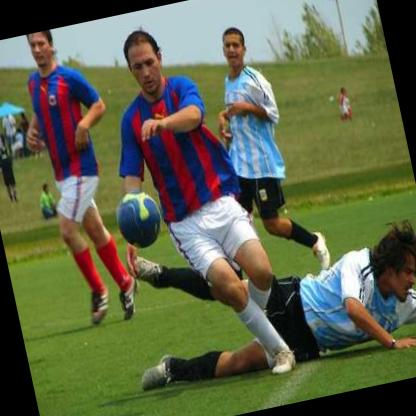ball: (114, 186, 166, 252)
